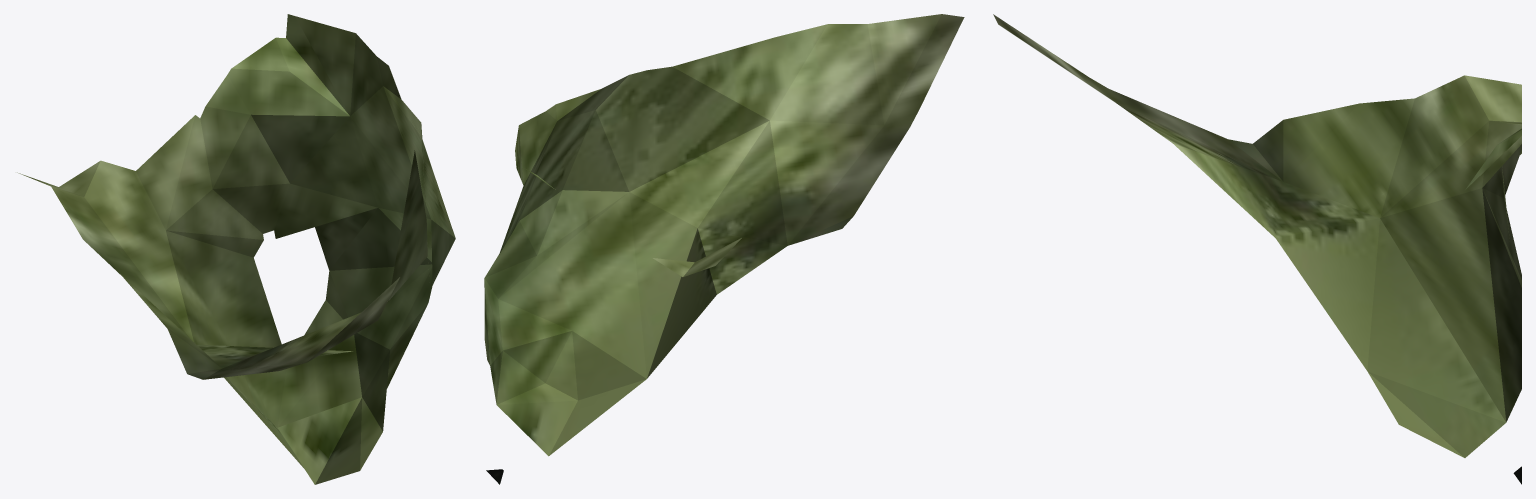
3 views of the same model, side by side, from view 1: azimuth 30°, elevation 25°; view 2: azimuth 150°, elevation 25°; view 3: azimuth 270°, elevation 25° (orthographic). The views are drawn at different scales.
Size of the model in its own units: 1.62 by 1.94 by 2.59.
Materials: 1 (1 with a texture image).
